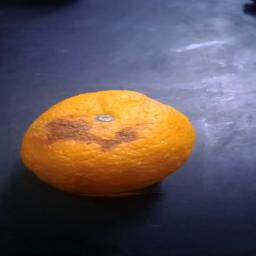Orange Semifresh: (12, 84, 208, 197)
